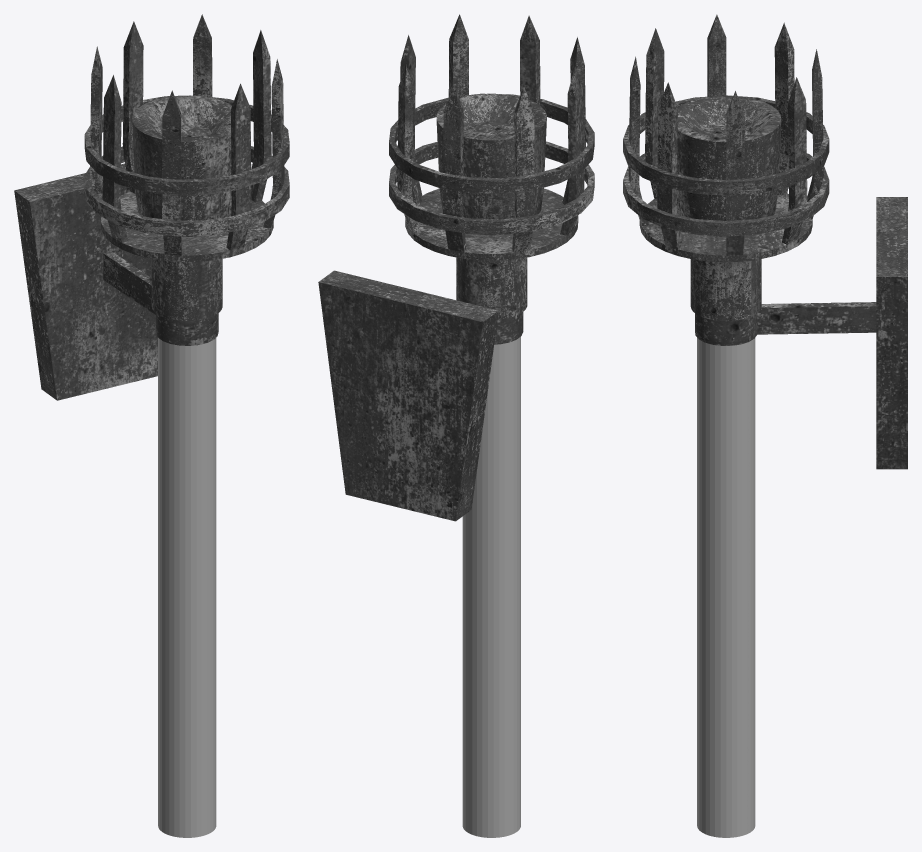
Rendered from wallTorch.fbx.
3 views of the same model, side by side, from view 1: azimuth 30°, elevation 25°; view 2: azimuth 150°, elevation 25°; view 3: azimuth 270°, elevation 25° (orthographic).
Visible parts, largest first — view 1: Metal, WoodenStick, wallMount; view 2: Metal, wallMount, WoodenStick; view 3: Metal, WoodenStick, wallMount.
Part boxes in pixels (left/top/right/bottom): Metal: left=84, top=14, right=289, bottom=320; WoodenStick: left=158, top=338, right=216, bottom=837; wallMount: left=14, top=163, right=218, bottom=400; Metal: left=389, top=14, right=594, bottom=319; wallMount: left=318, top=270, right=523, bottom=521; WoodenStick: left=462, top=336, right=520, bottom=837; Metal: left=623, top=14, right=829, bottom=321; WoodenStick: left=697, top=337, right=755, bottom=837; wallMount: left=695, top=197, right=907, bottom=469.
Bounding box in the file's own units: 26.81 × 112 × 37.02.
